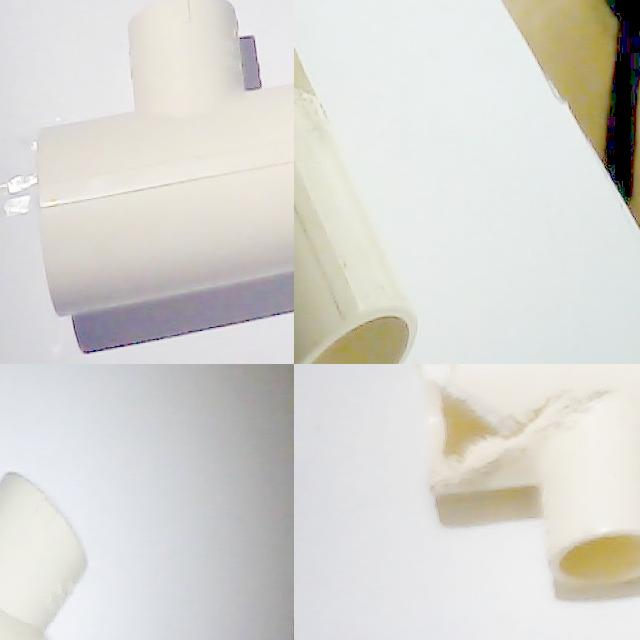Defective: (408, 364, 547, 485), (294, 0, 322, 99)
T Joint: (37, 0, 294, 342), (414, 364, 640, 602), (294, 42, 420, 364)
